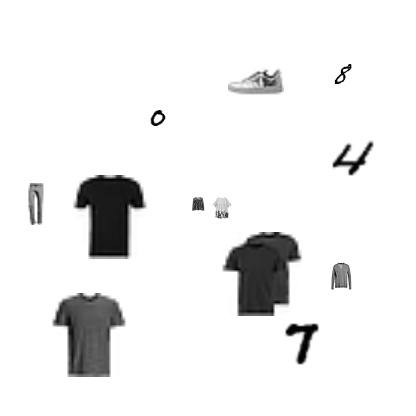0: (146, 107, 168, 129)
4: (323, 131, 379, 187)
7: (274, 310, 330, 366)
8: (329, 60, 357, 88)
Dress: (211, 197, 233, 219)
Pullover: (327, 262, 355, 290)
Shirt: (191, 197, 205, 211)
Sneaker: (228, 52, 284, 108)
T-shirt/top: (47, 293, 131, 377), (68, 175, 152, 259), (220, 232, 304, 316)
Trouser: (15, 183, 57, 225)
